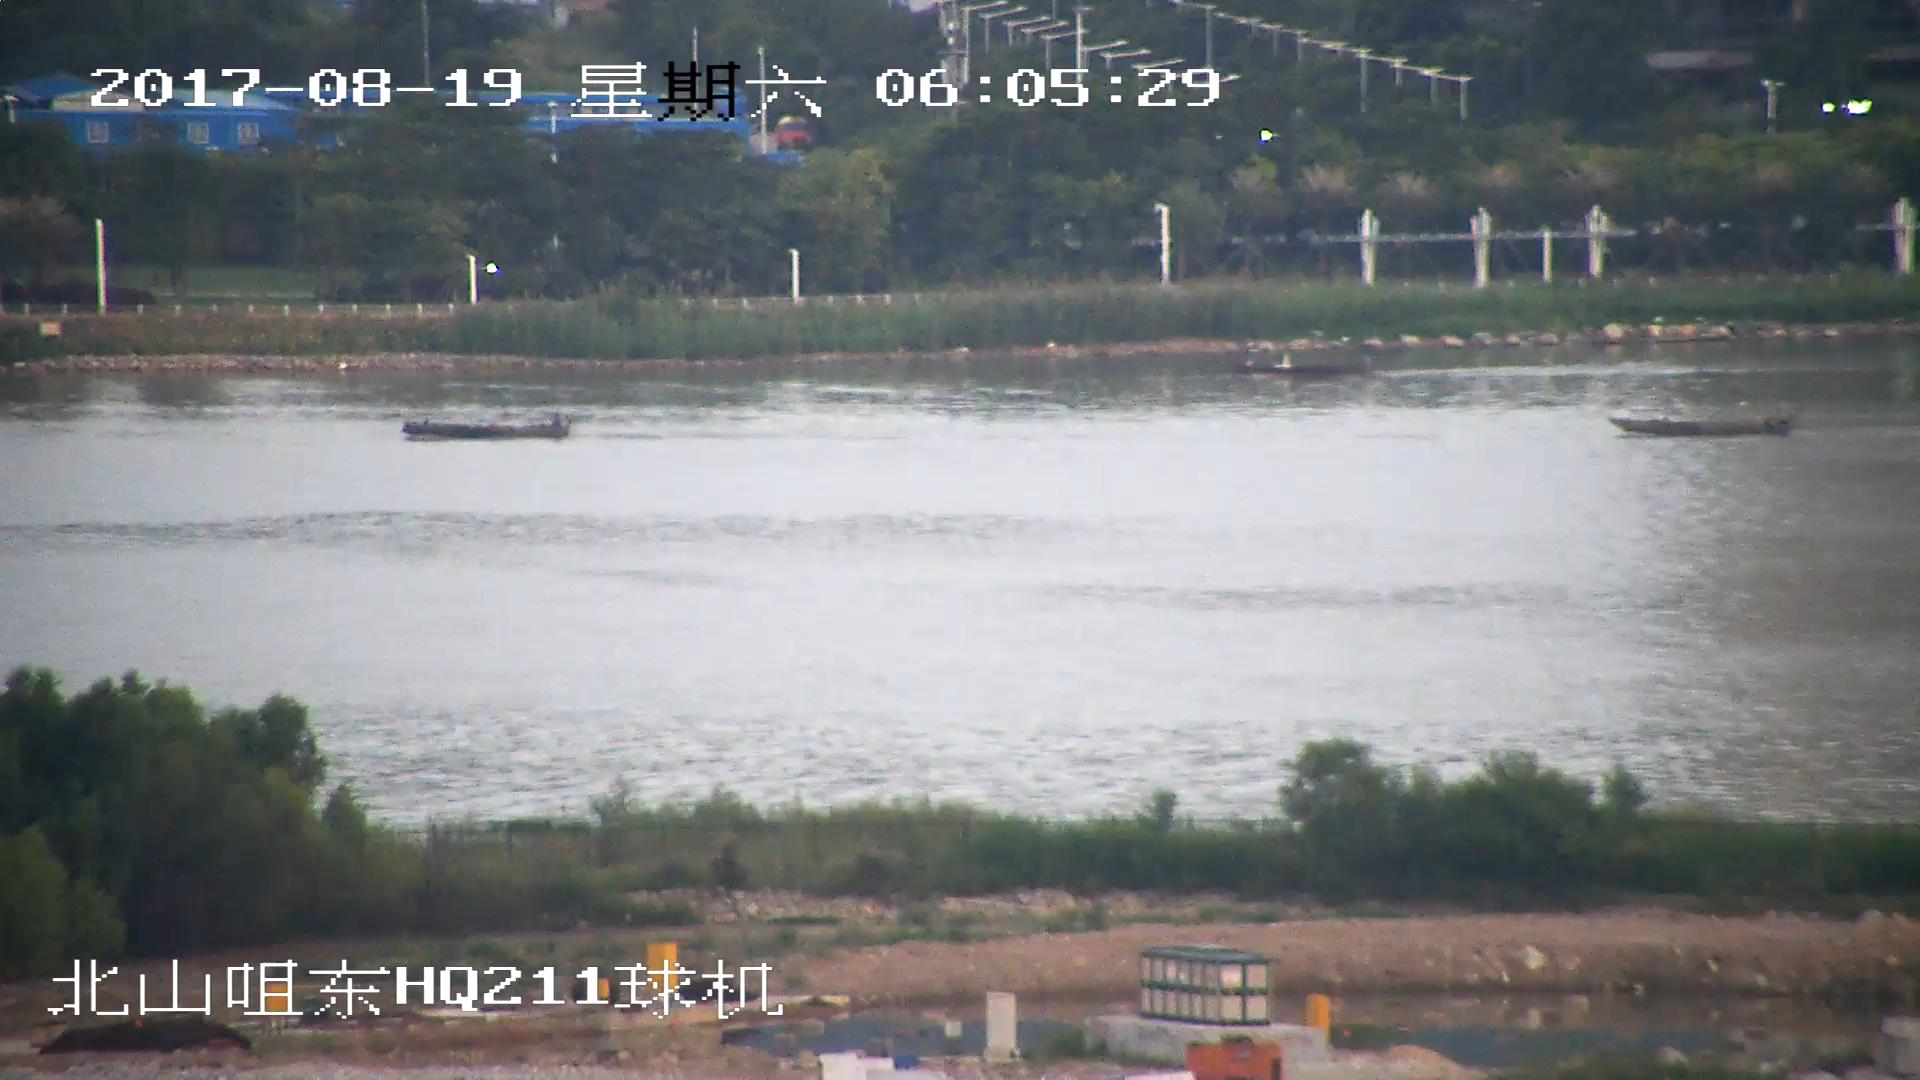fishing boat: (1606, 404, 1788, 438), (406, 410, 568, 443), (1241, 353, 1372, 375)
